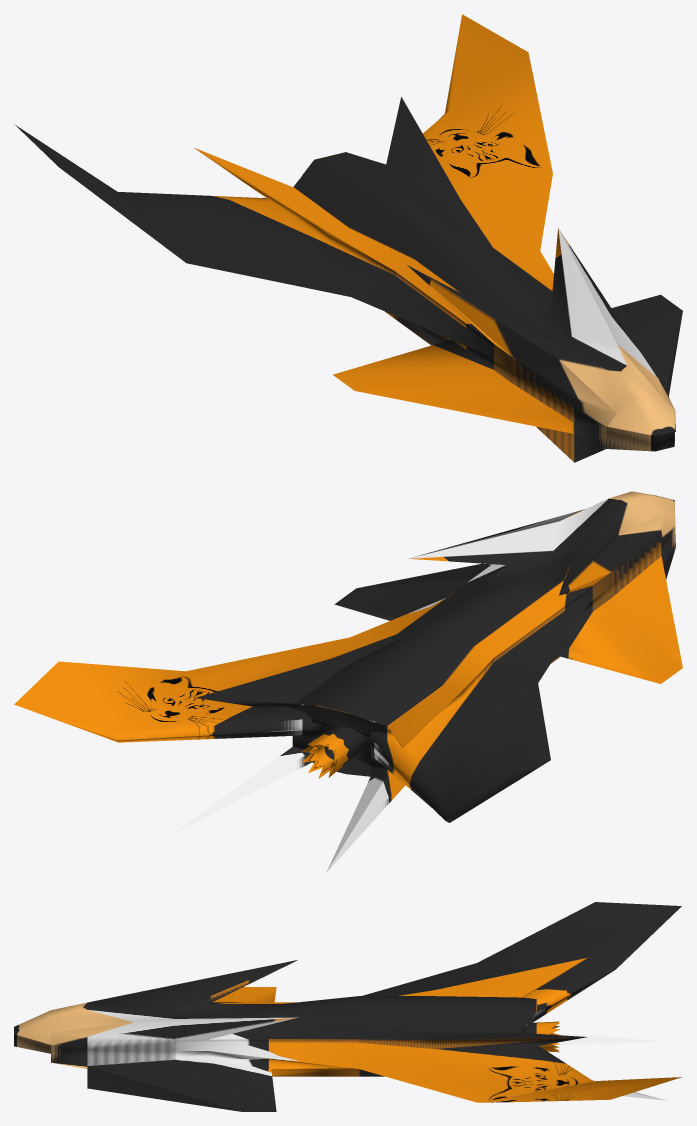
File: large ship.obj
3 renders of one model, top to bottom at view 1: azimuth 30°, elevation 25°; view 2: azimuth 150°, elevation 25°; view 3: azimuth 270°, elevation 25°, orthographic. The views are drawn at different scales.
Parts seen in each view (by area): view 1: polySurface1; view 2: polySurface1; view 3: polySurface1.
Boxes of the visible parts, x1,y1,x2,y2 form: polySurface1: (14,14,682,462); polySurface1: (14,491,682,872); polySurface1: (14,902,681,1111).
Size of the model in its own units: 125 by 27.13 by 197.
